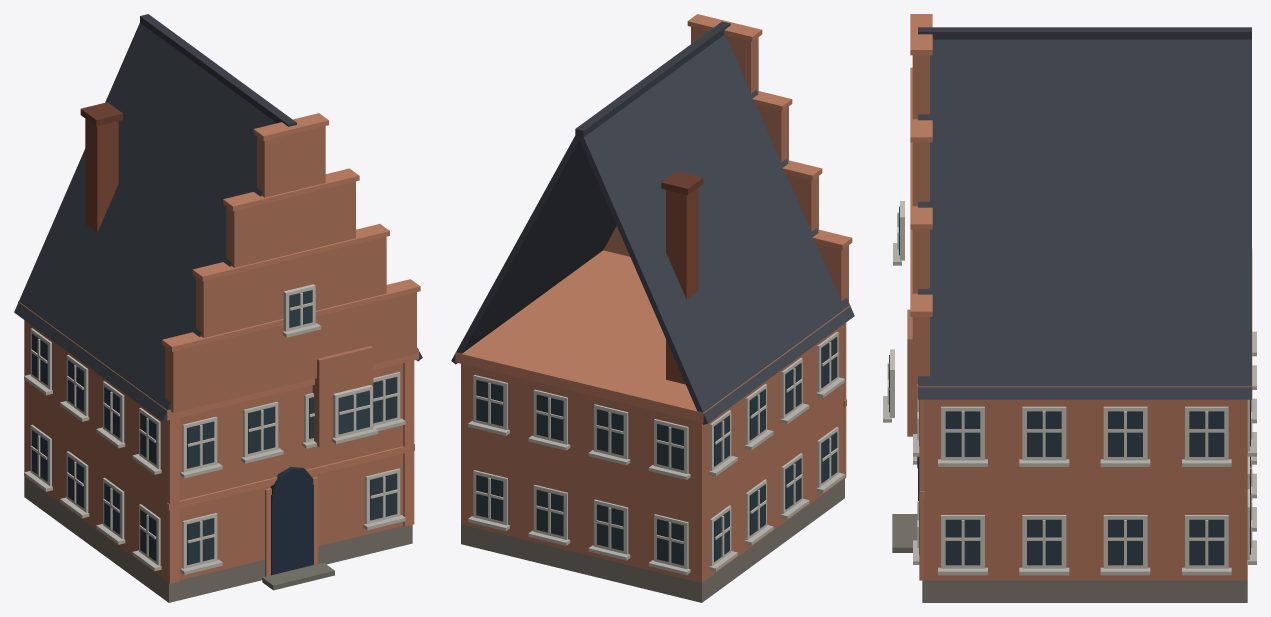
Rendered from procedural_house@4.glb.
3 views of the same model, side by side, from view 1: azimuth 30°, elevation 25°; view 2: azimuth 150°, elevation 25°; view 3: azimuth 270°, elevation 25° (orthographic). The views are drawn at different scales.
Parts seen in each view (by area): view 1: part_0; view 2: part_0; view 3: part_0.
Boxes of the visible parts, x1,y1,x2,y2 form: part_0: (14, 14, 422, 602); part_0: (451, 14, 854, 602); part_0: (883, 14, 1256, 602).
Size of the model in its own units: 6.78 by 11.22 by 7.51.
